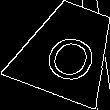O_NE: (34, 18, 101, 82)
